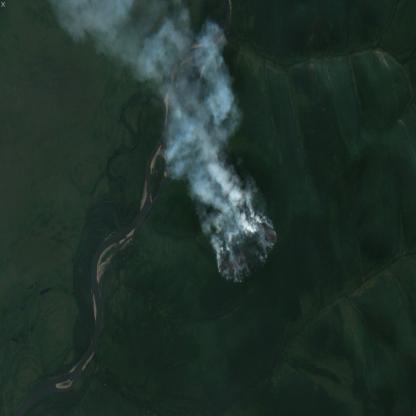fire: (215, 214, 281, 283)
